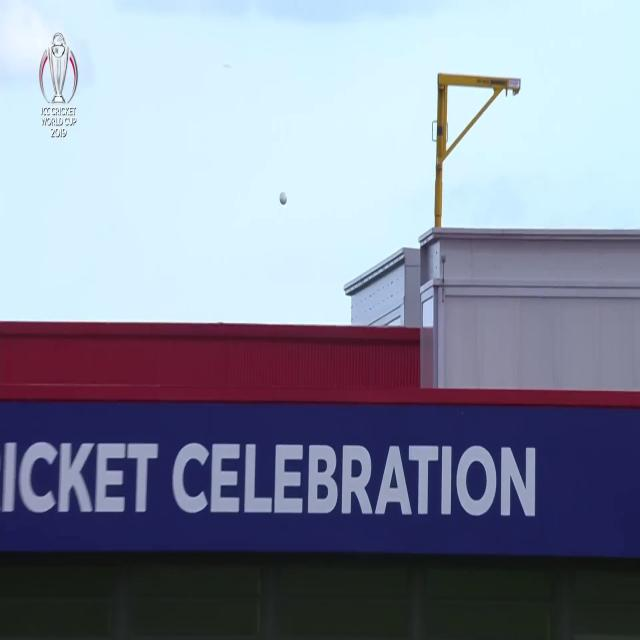ball: (277, 187, 290, 212)
